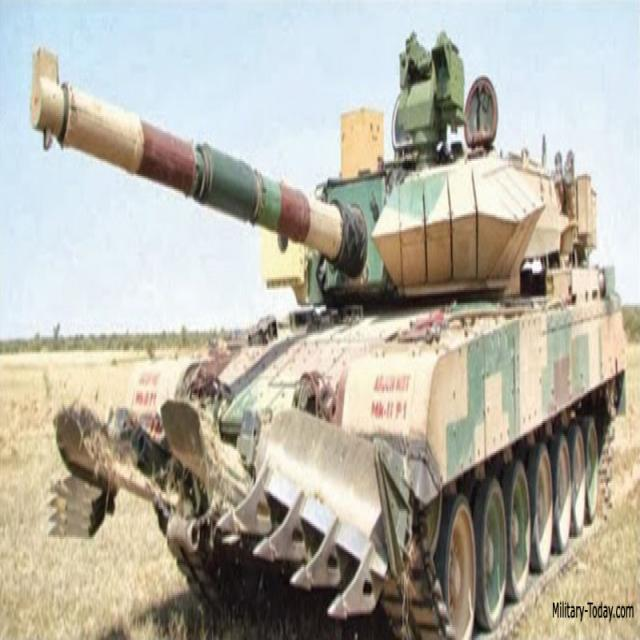Tank: (18, 25, 628, 618)
